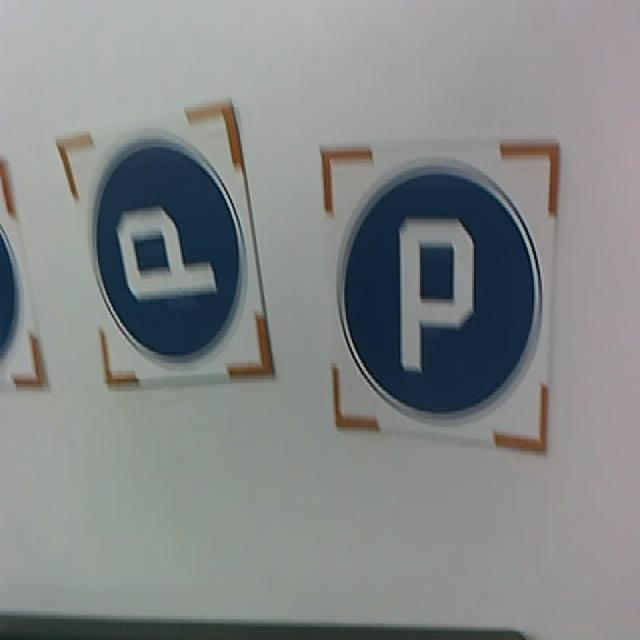parking: (345, 160, 540, 421), (94, 137, 247, 362)
